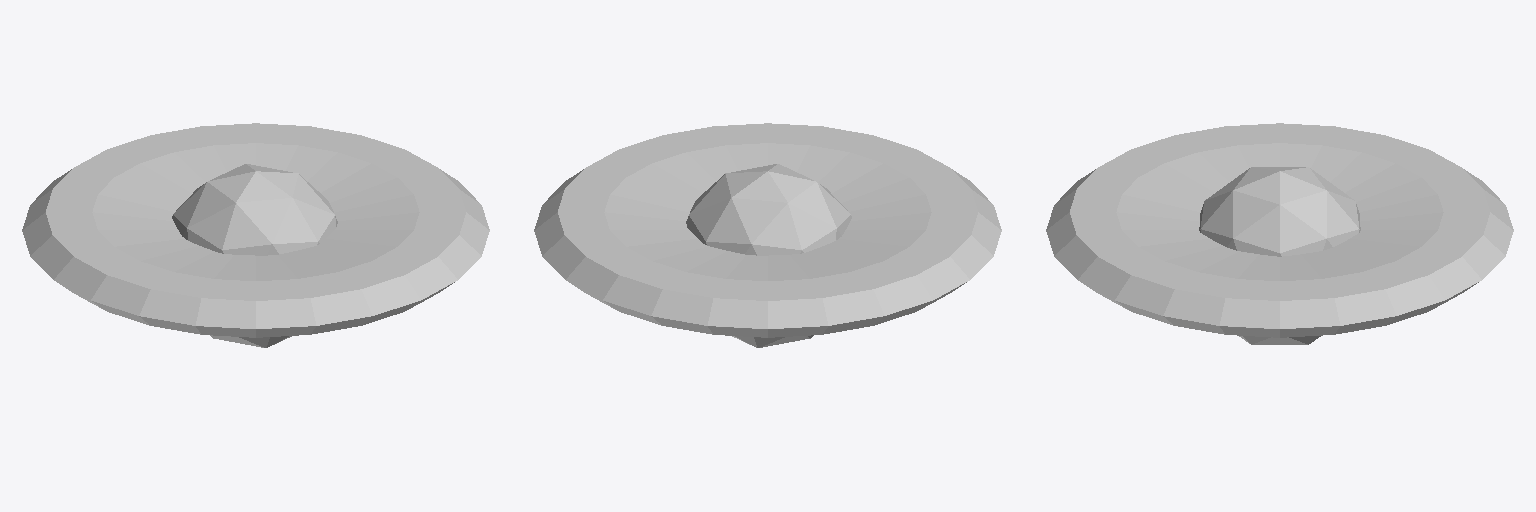
File: defence_platform.obj
The picture shows the model from 3 angles: view 1: azimuth 30°, elevation 25°; view 2: azimuth 150°, elevation 25°; view 3: azimuth 270°, elevation 25°; orthographic projection.
Visible parts, largest first — view 1: Torus, Icosphere; view 2: Torus, Icosphere; view 3: Torus, Icosphere.
Part boxes in pixels (x1,y1,x2,y2): Torus: (22, 123, 489, 337); Icosphere: (172, 164, 337, 347); Torus: (534, 123, 1001, 337); Icosphere: (686, 164, 851, 347); Torus: (1046, 123, 1513, 337); Icosphere: (1199, 167, 1360, 344).
Bounding box in the file's own units: 5 × 2 × 5.